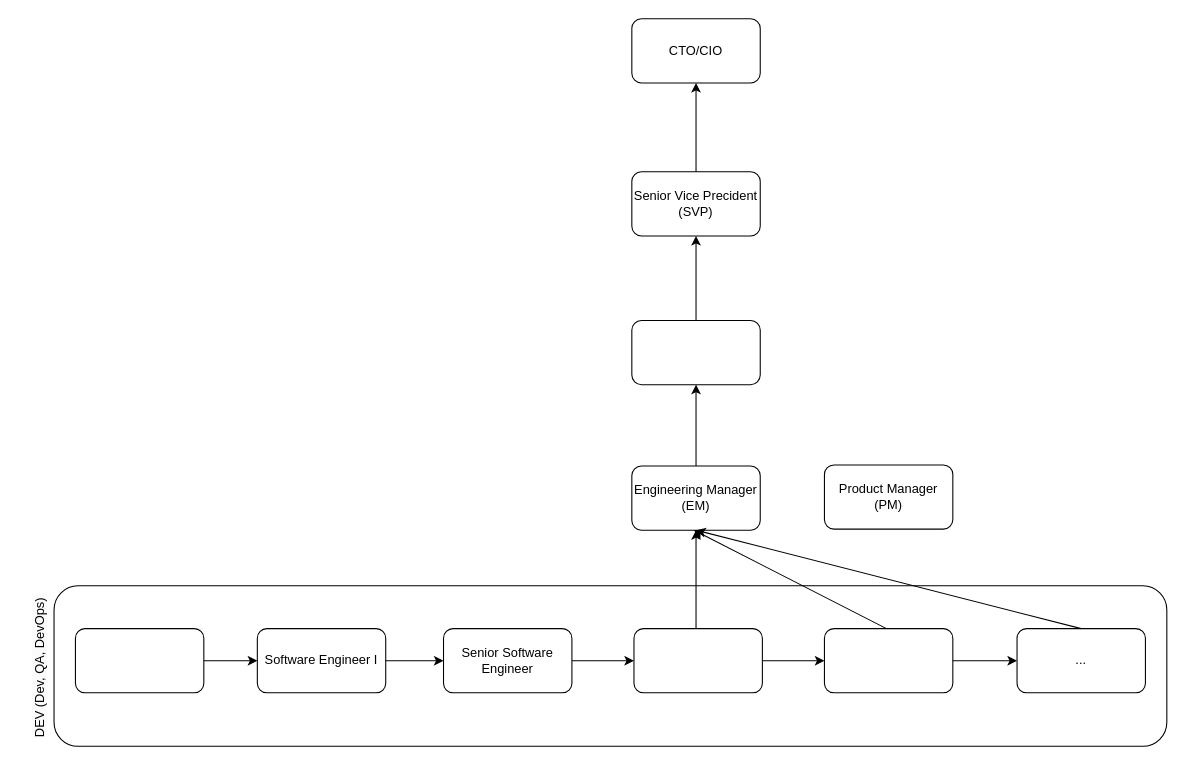
This 1186x781 diagram has some shape labels left out. Here are the shapes that lost their labels. From the top down, the centre of each, then its label:
At (x=695, y=352): "General Engineering Manager (GEM)".
At (x=139, y=660): "Software Engineer II".
At (x=697, y=660): "Principal Engineer".
At (x=888, y=660): "Partner Engineer".
